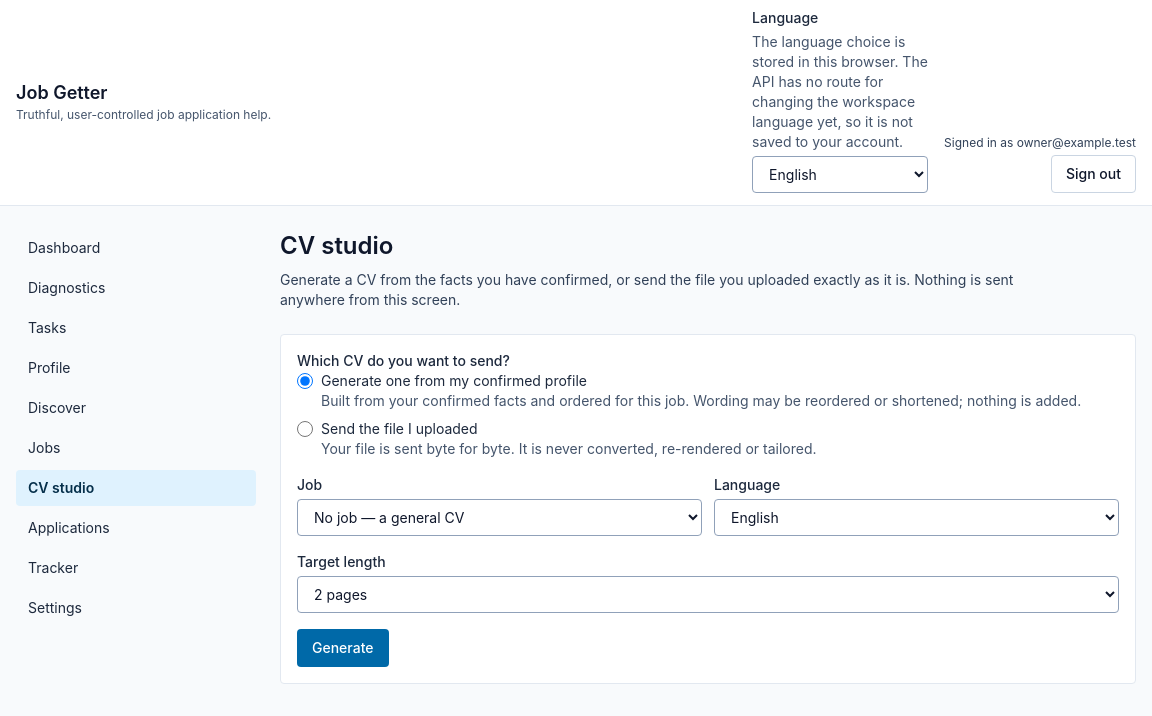
Scenario: the review panel › says nothing was flagged when the checks found nothing
Expected: the heading "CV studio" is shown, [280, 231, 393, 260]
Click the button "Generate".
click(343, 648)  # box [297, 629, 388, 667]
(page scrolled)
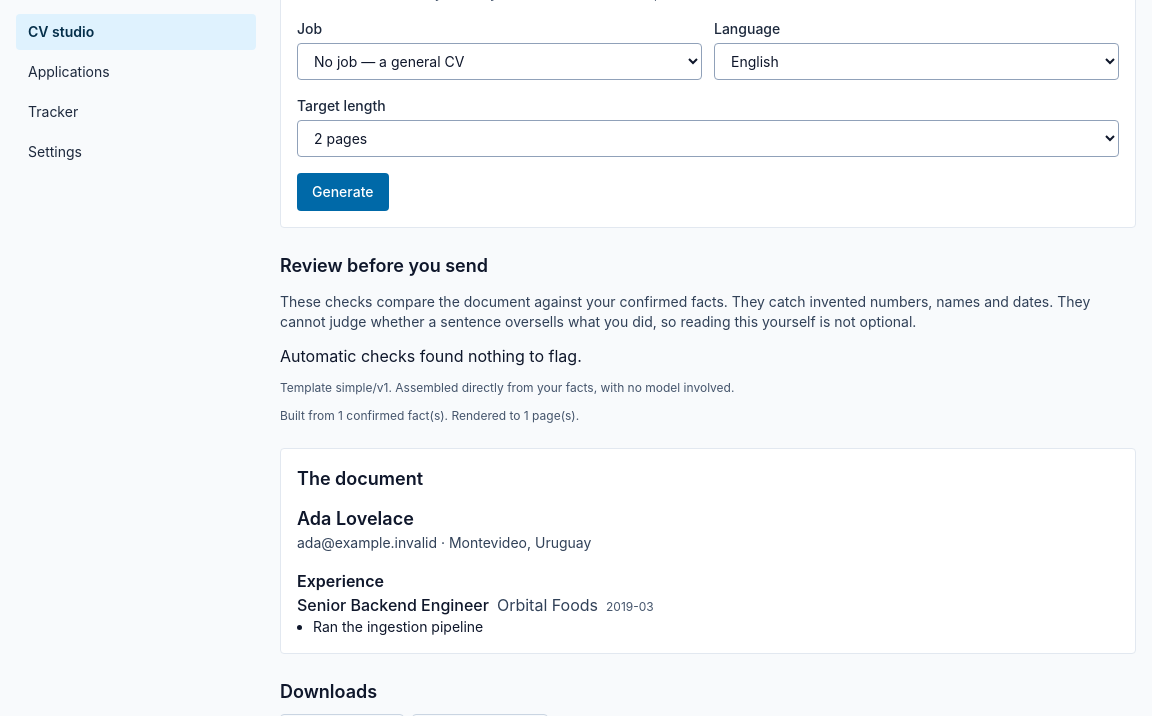
Expected: the text with test id "checks-passed" reads "Automatic checks found nothing to flag.", [280, 346, 582, 366]
